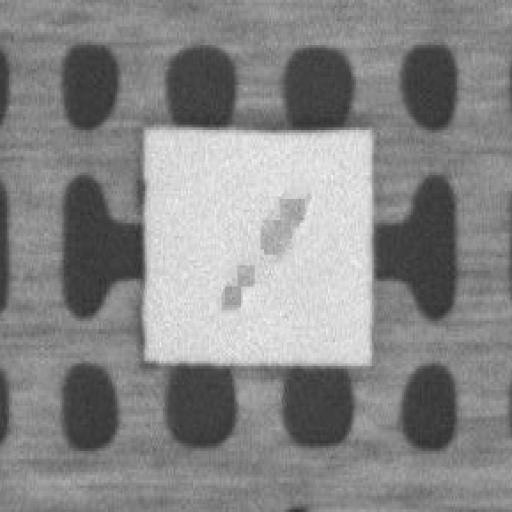DIE_INK: (220, 188, 308, 305)
